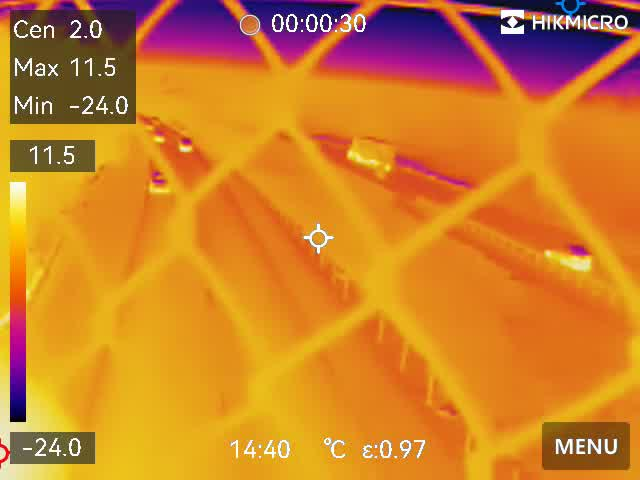heavyTruck: (346, 136, 409, 179)
vehicle: (542, 233, 597, 271), (147, 166, 174, 196), (178, 134, 197, 156), (150, 130, 169, 148)
